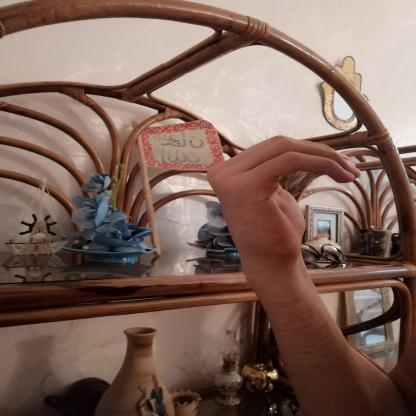HAA: (189, 120, 380, 269)
